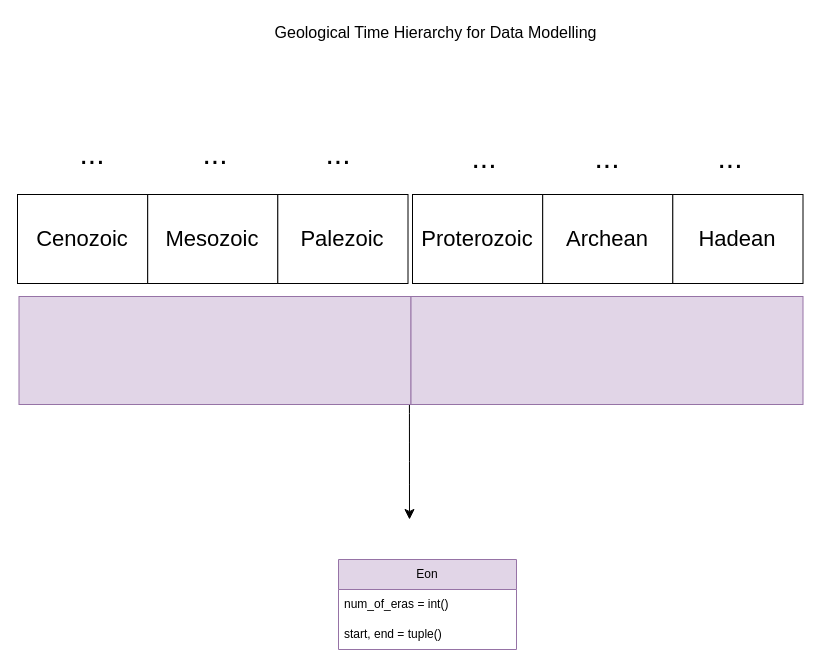
Some shapes in this 821 by 667 pixel diagram are drawn without their labels. Here are the shapes that lost their labels. From the top down, the centre of each, then its label:
[214,350]: Phanerozoic
[606,350]: Pre-cambrian
